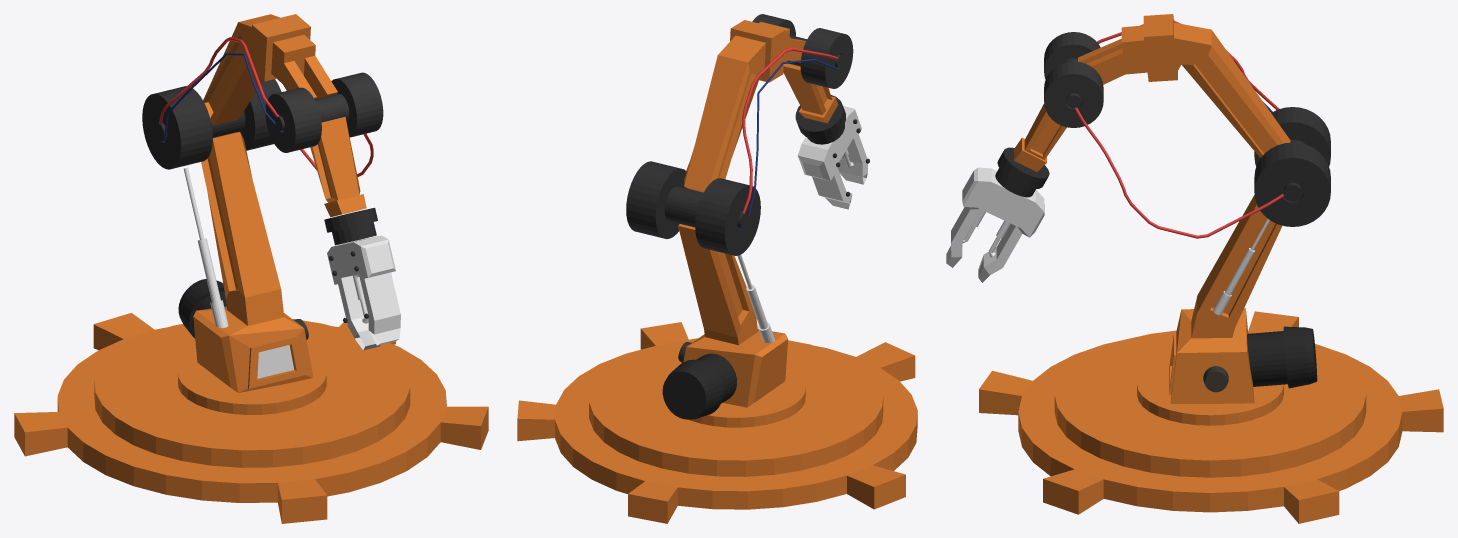
Rendered from machine5.fbx.
The picture shows the model from 3 angles, left to right: view 1: azimuth 30°, elevation 25°; view 2: azimuth 150°, elevation 25°; view 3: azimuth 270°, elevation 25°; orthographic projection. The views are drawn at different scales.
Visible parts, largest first — view 1: Cylinder.013; view 2: Cylinder.013; view 3: Cylinder.013.
Part boxes in pixels (x1,y1,x2,y2): Cylinder.013: [14, 14, 488, 523]; Cylinder.013: [517, 14, 917, 523]; Cylinder.013: [946, 14, 1443, 523].
Size of the model in its own units: 847 by 858 by 943.
